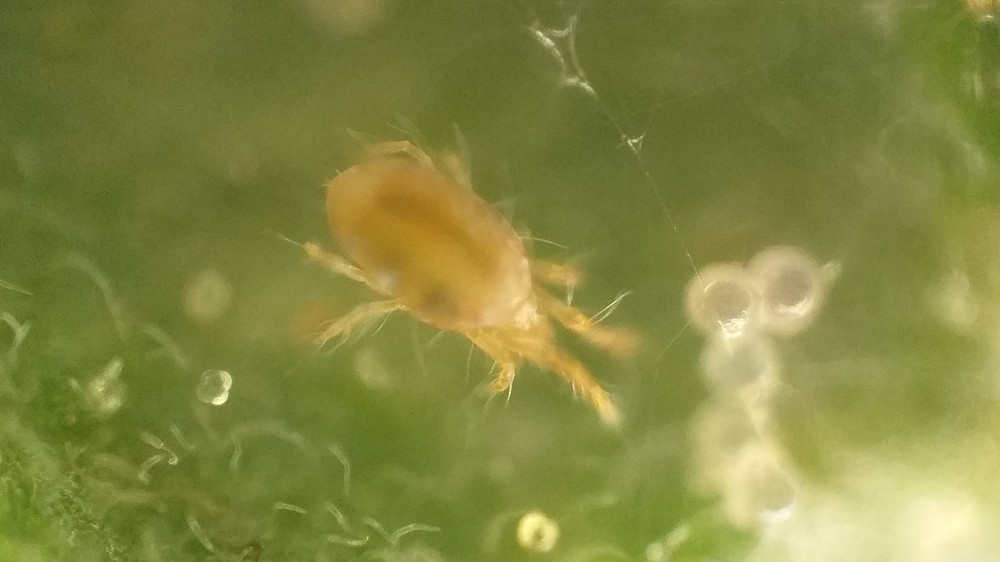Aracnido Rojo: (307, 115, 662, 454)
